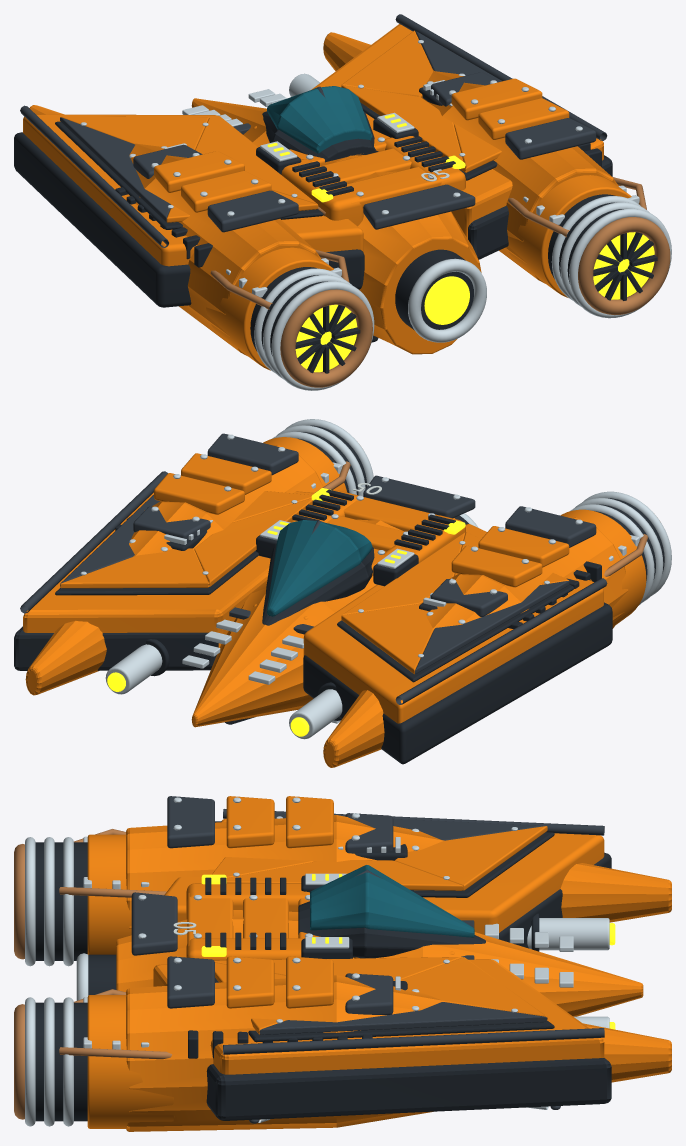
3 renders of one model, top to bottom at view 1: azimuth 30°, elevation 25°; view 2: azimuth 150°, elevation 25°; view 3: azimuth 270°, elevation 25°, orthographic. The views are drawn at different scales.
Parts seen in each view (by area): view 1: SolidHull_05; view 2: SolidHull_05; view 3: SolidHull_05.
Boxes of the visible parts, left/top/right/bottom form: SolidHull_05: left=14, top=14, right=671, bottom=390; SolidHull_05: left=14, top=419, right=671, bottom=767; SolidHull_05: left=14, top=796, right=671, bottom=1131.
Size of the model in its own units: 3.03 by 1.21 by 3.43.
